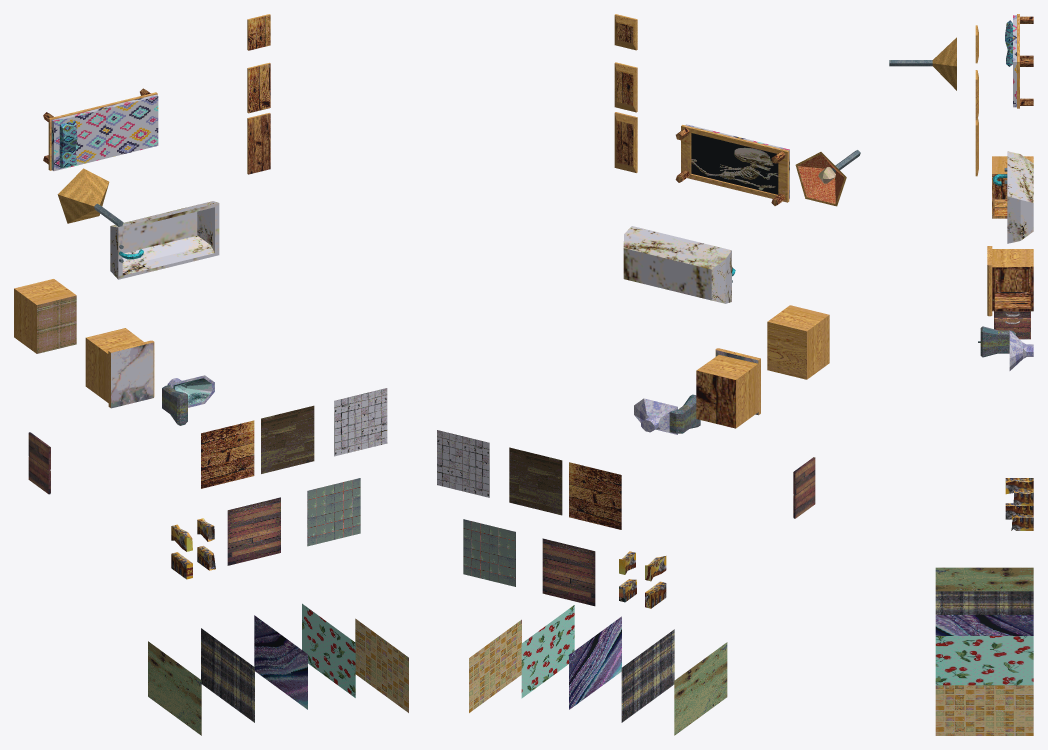
File: StafModels_1.fbx
3 views of the same model, side by side, from view 1: azimuth 30°, elevation 25°; view 2: azimuth 150°, elevation 25°; view 3: azimuth 270°, elevation 25° (orthographic). The views are drawn at different scales.
Parts seen in each view (by area): view 1: Bath, Куб, body, body.001, Floor, Floor.004, Wall.001, Wall.002, Floor.003, Wall.004, Floor.001, Floor.002 (+10 smaller); view 2: Bath, body, body.001, Плоскость, Wall.001, Wall.002, Floor.002, Floor.001, Wall, Floor.004, Wall.003, Floor.003 (+9 smaller); view 3: Wall.004, Wall, body, Wall.001, Wall.002, Bath, Wall.003, Цилиндр.001, body.001, Back, Куб.001, Right.002 (+7 smaller).
Part boxes in pixels (x1,y1,x2,y2): Bath: [110, 201, 219, 279]; Куб: [51, 94, 158, 170]; body: [85, 328, 154, 408]; body.001: [14, 279, 76, 353]; Floor: [201, 420, 254, 488]; Floor.004: [334, 388, 387, 456]; Wall.001: [148, 641, 201, 735]; Wall.002: [201, 628, 254, 722]; Floor.003: [307, 478, 360, 546]; Wall.004: [355, 618, 408, 712]; Floor.001: [261, 405, 314, 473]; Floor.002: [227, 497, 280, 565]; Bath: [623, 226, 731, 303]; body: [696, 348, 760, 428]; body.001: [767, 305, 829, 379]; Плоскость: [691, 133, 778, 194]; Wall.001: [674, 642, 727, 735]; Wall.002: [621, 629, 674, 722]; Floor.002: [542, 538, 595, 606]; Floor.001: [509, 447, 562, 515]; Wall: [521, 605, 574, 698]; Floor.004: [437, 430, 489, 497]; Wall.003: [569, 616, 621, 709]; Floor.003: [463, 519, 515, 586]; Wall.004: [935, 685, 1033, 735]; Wall: [935, 636, 1033, 685]; body: [987, 246, 1033, 316]; Wall.001: [935, 567, 1033, 591]; Wall.002: [935, 591, 1033, 614]; Bath: [1007, 151, 1033, 243]; Wall.003: [935, 615, 1033, 635]; Цилиндр.001: [889, 37, 956, 90]; body.001: [992, 156, 1033, 218]; Back: [980, 326, 1015, 357]; Куб.001: [1017, 14, 1033, 108]; Right.002: [994, 317, 1030, 339].
Size of the model in its own units: 14.04 by 25.55 by 5.15.
